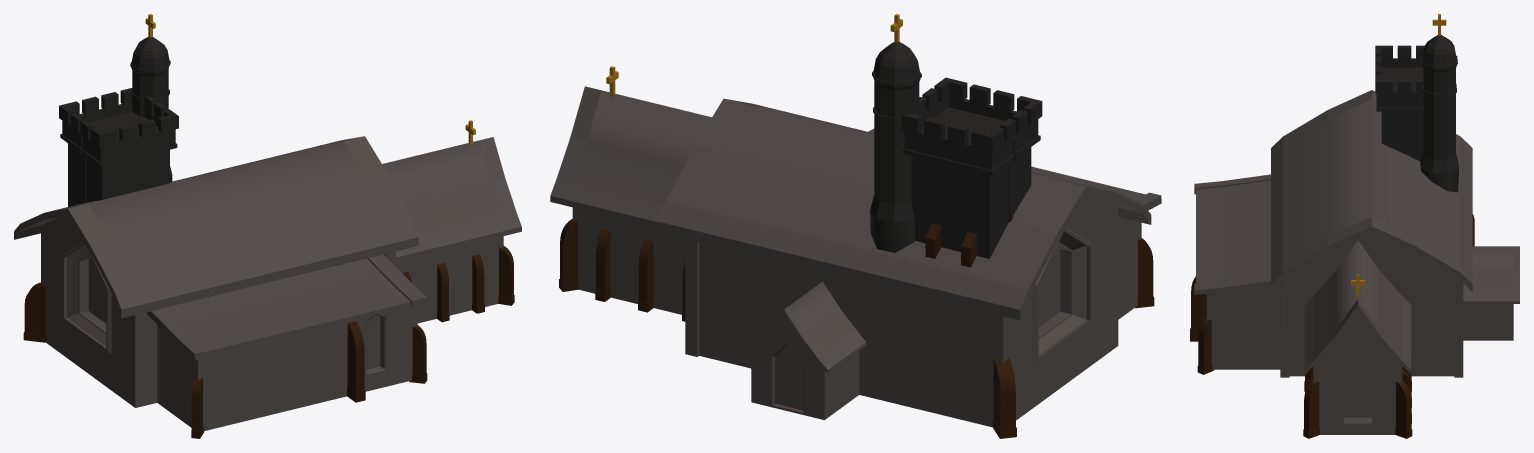
Rendered from CHURCH.fbx.
The picture shows the model from 3 angles, left to right: view 1: azimuth 30°, elevation 25°; view 2: azimuth 150°, elevation 25°; view 3: azimuth 270°, elevation 25°; orthographic projection. The views are drawn at different scales.
Visible parts, largest first — view 1: Box027; view 2: Box027; view 3: Box027.
Part boxes in pixels (<box>): Box027: <box>14,14,521,438</box>; Box027: <box>550,14,1161,438</box>; Box027: <box>1190,14,1519,438</box>.
Size of the model in its own units: 37.4 by 26.49 by 27.19.
